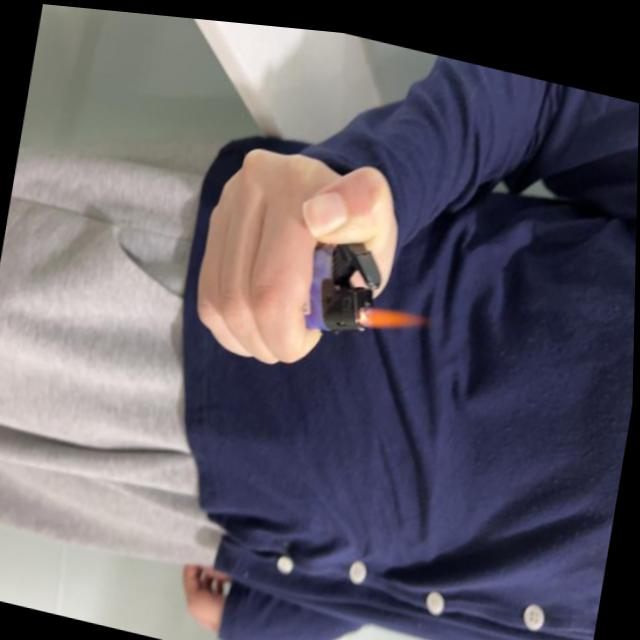Fire: (355, 287, 434, 334)
